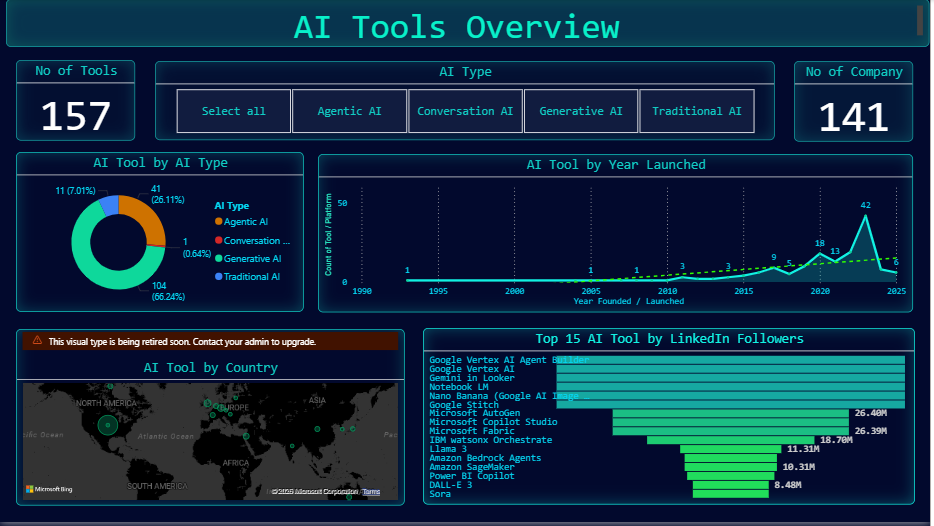

The dashboard page shown, as its layout file describes it:
{"tool":"powerbi","page":{"name":"AI tools Overview ","canvas":[1280,720],"ordinal":0},"visuals":[{"type":"textbox","box":[8.8,0,1271,66.1],"z":0},{"type":"card","title":"No of Tools ","fields":{"Values":["Count(Cleaned Analysis.Tool / Platform)"]},"box":[21.5,84,164.5,110.8],"z":1000},{"type":"card","title":"No of Company","fields":{"Values":["Count(Cleaned Analysis.Company Name)"]},"box":[1092.3,85.8,164.5,110.8],"z":2000},{"type":"slicer","title":"AI Type","fields":{"Values":["Cleaned Analysis.AI Type"]},"box":[212.7,85.8,852.7,109.1],"z":3000},{"type":"lineChart","title":"AI Tool  by Year Launched ","fields":{"Category":["Cleaned Analysis.Year Founded / Launched"],"Y":["Count(Cleaned Analysis.Tool / Platform)","select"]},"box":[438,212.7,818.8,218.1],"z":4000},{"type":"map","title":"AI Tool  by Country","fields":{"Size":["select","CountNonNull(Cleaned Analysis.Tool / Platform)"],"Category":["Cleaned Analysis.Country Founded"]},"box":[21.5,454.1,534.5,243.1],"z":5000},{"type":"donutChart","title":"AI Tool  by AI Type","fields":{"Category":["Cleaned Analysis.AI Type"],"Y":["select","CountNonNull(Cleaned Analysis.Tool / Platform)"]},"box":[21.7,211.1,396.1,219.8],"z":6000},{"type":"funnel","title":"Top 15 AI Tool by LinkedIn  Followers ","fields":{"Category":["Cleaned Analysis.Tool / Platform"],"Y":["Sum(Cleaned Analysis.LinkedIn Followers )"]},"box":[581.6,453.1,677.4,242.9],"z":7000}]}

Visuals, with their boxes in screenshot pixels (x1, y1, x2, y2), scaled from the page's 1280x720 canvas onto the 934x526 screenshot:
textbox: l=6, t=0, r=933, b=48
"No of Tools " card: l=16, t=61, r=136, b=142
"No of Company" card: l=797, t=63, r=917, b=144
"AI Type" slicer: l=155, t=63, r=777, b=142
"AI Tool  by Year Launched " lineChart: l=320, t=155, r=917, b=315
"AI Tool  by Country" map: l=16, t=332, r=406, b=509
"AI Tool  by AI Type" donutChart: l=16, t=154, r=305, b=315
"Top 15 AI Tool by LinkedIn  Followers " funnel: l=424, t=331, r=919, b=508
